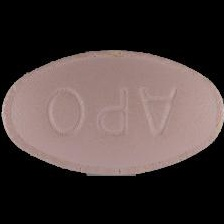61786-486: (0, 0, 224, 224)
